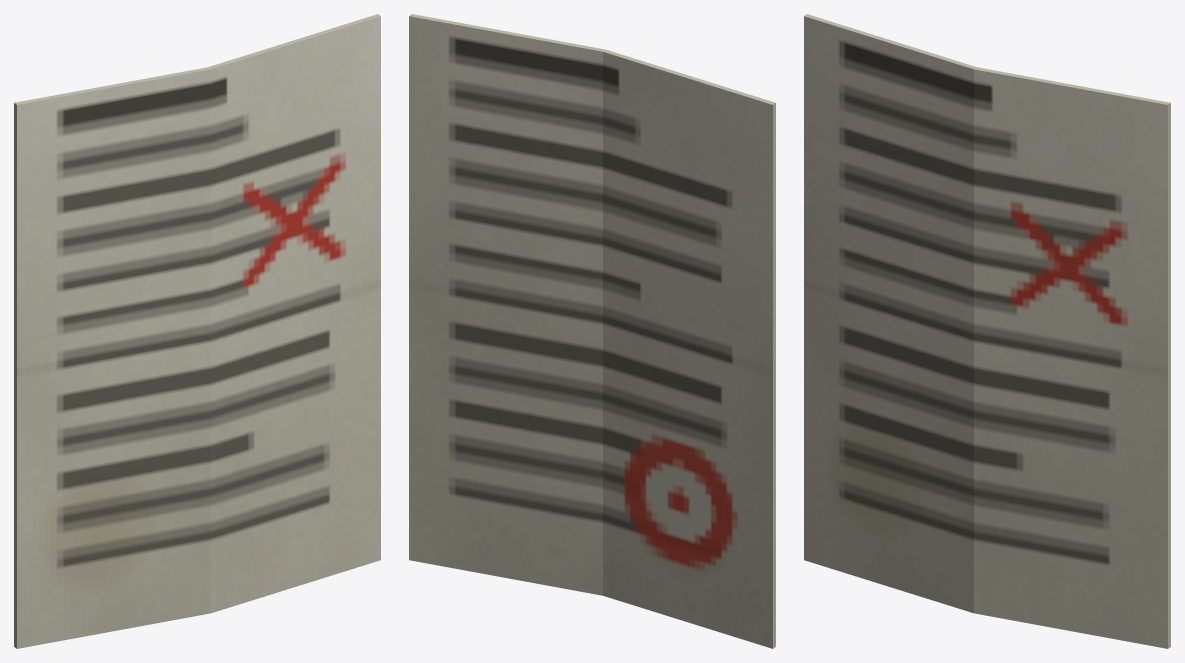
The model's file is PROP_ExamPaper.fbx.
The picture shows the model from 3 angles, left to right: view 1: azimuth 30°, elevation 25°; view 2: azimuth 150°, elevation 25°; view 3: azimuth 330°, elevation 25°; orthographic projection.
Parts seen in each view (by area): view 1: PROP_ExamPaper; view 2: PROP_ExamPaper; view 3: PROP_ExamPaper.
Part boxes in pixels (left/top/right/bottom): PROP_ExamPaper: left=14, top=14, right=380, bottom=648; PROP_ExamPaper: left=409, top=14, right=775, bottom=648; PROP_ExamPaper: left=804, top=14, right=1170, bottom=648.
Bounding box in the file's own units: 21 × 30 × 1.5.
Materials: 1 (1 with a texture image).
